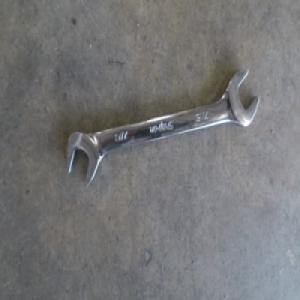Wrench: (66, 70, 261, 193)
